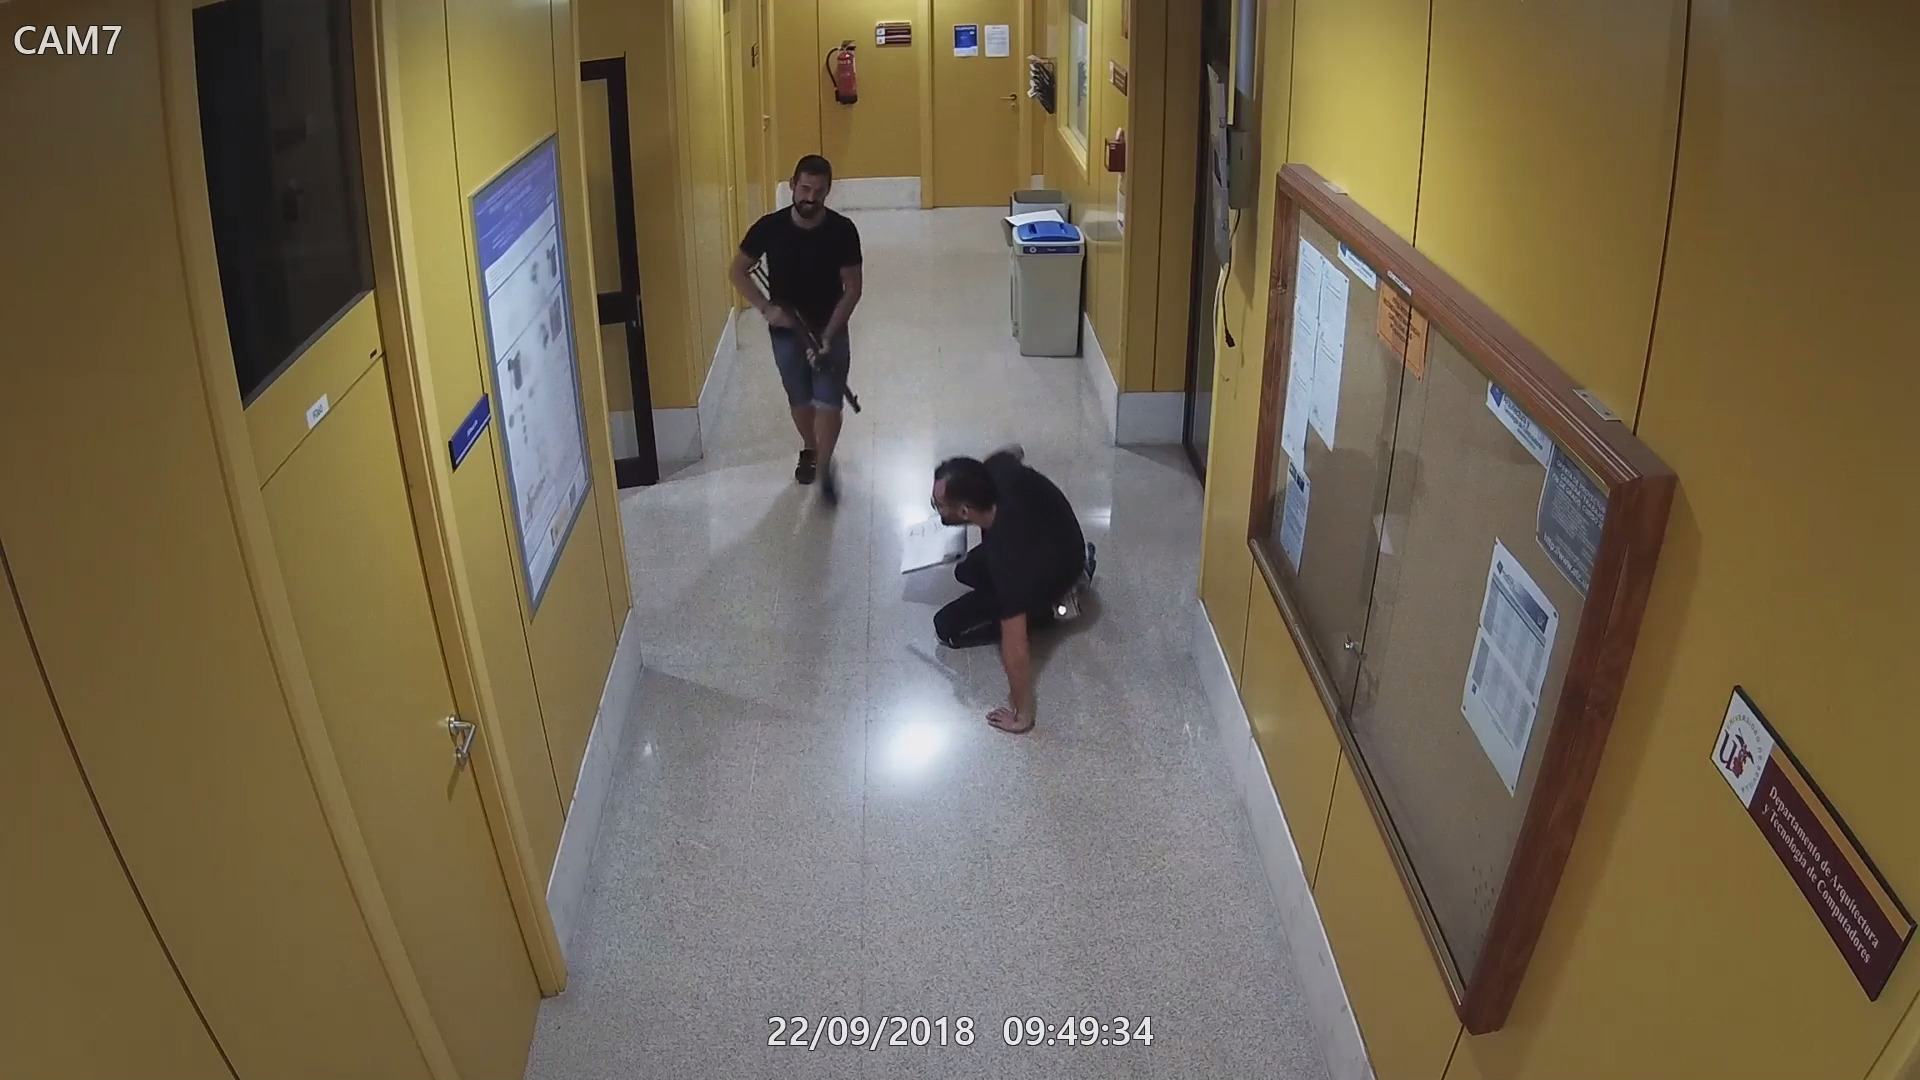Short_rifle: (745, 257, 864, 413)
